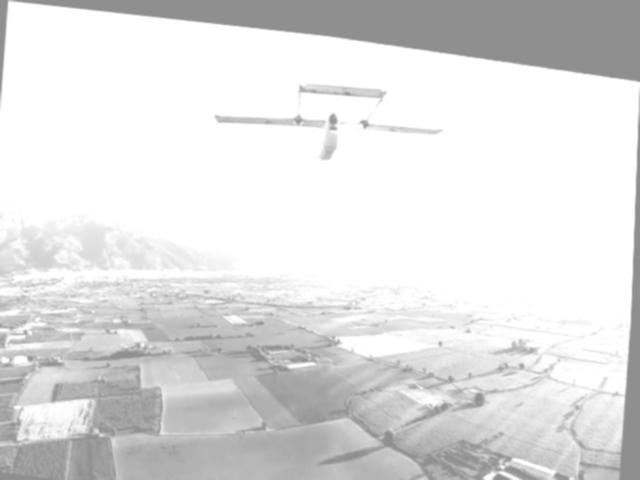hedef: (199, 18, 462, 230)
